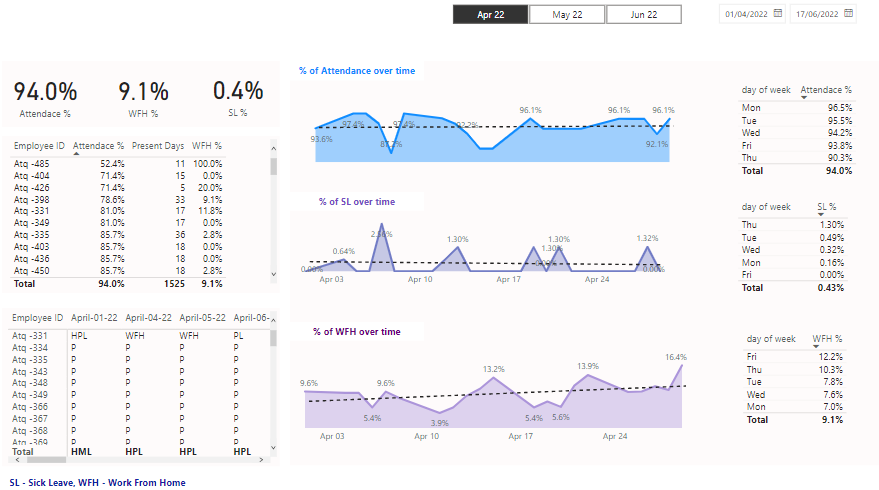

The dashboard page shown, as its layout file describes it:
{"tool":"powerbi","page":{"name":"Presence Insights","canvas":[1280,720],"ordinal":0},"visuals":[{"type":"textbox","box":[7.8,205.6,399.9,225.5],"z":0},{"type":"textbox","box":[7.8,453.3,399.8,227.6],"z":1000},{"type":"textbox","box":[422.3,97.9,848.1,582.3],"z":2000},{"type":"textbox","box":[7.8,98,399.9,95.4],"z":3000},{"type":"tableEx","fields":{"Values":["Final Data.Employee ID","Measures (2).Attendace %","Measures (2).Present Days","Measures (2).WFH %"]},"box":[12.6,205.2,394.9,225.7],"z":4000},{"type":"slicer","fields":{"Values":["Final Data.Date"]},"box":[1027.3,5.2,252.7,46.3],"z":5000},{"type":"slicer","fields":{"Values":["Final Data.MMM YY"]},"box":[630.4,10.5,379.5,35.8],"z":6000},{"type":"areaChart","fields":{"Category":["Final Data.MMM YY","Final Data.Date"],"Y":["Measures (2).WFH %"]},"box":[420.7,502.3,589,153.5],"z":7000},{"type":"areaChart","fields":{"Category":["Final Data.WeekNo","Final Data.Date"],"Y":["Measures (2).Attendace %"]},"box":[444.1,144.9,540.4,103.2],"z":8000},{"type":"card","fields":{"Values":["Measures (2).Attendace %"]},"box":[7.8,98,124,96.3],"z":9000},{"type":"card","fields":{"Values":["Measures (2).WFH %"]},"box":[141.4,98,138.8,96.3],"z":10000},{"type":"areaChart","fields":{"Category":["Final Data.MMM YY","Final Data.Date"],"Y":["Measures (2).SL %"]},"box":[422.5,307.1,556,124],"z":11000},{"type":"card","fields":{"Values":["Measures (2).SL %"]},"box":[286.3,97.2,121.4,96.3],"z":13000},{"type":"textbox","box":[422.4,98.2,192.5,27.5],"z":15000},{"type":"textbox","box":[422.5,286.3,192.6,26.9],"z":16000},{"type":"textbox","box":[422.1,473.7,192.6,27.2],"z":17000},{"type":"pivotTable","fields":{"Rows":["Final Data.Employee ID"],"Columns":["Final Data.Date"],"Values":["Min(Final Data.Value)"]},"box":[11.7,453.3,395.9,227.6],"z":18000},{"type":"textbox","box":[13.6,691.6,289.8,28.2],"z":19000},{"type":"tableEx","fields":{"Values":["Final Data.day of week","Measures (2).Attendace %"]},"box":[1060.9,125.8,209.9,145.7],"z":20000},{"type":"tableEx","fields":{"Values":["Final Data.day of week","Measures (2).SL %"]},"box":[1060.9,294.1,191.7,167.4],"z":21000},{"type":"tableEx","fields":{"Values":["Final Data.day of week","Measures (2).WFH %"]},"box":[1068.7,483.2,170,167.4],"z":22000}]}

Visuals, with their boxes on the page's 1280x720 design canvas (x1, y1, x2, y2). These are canvas units, not pixel positions in the 879x490 screenshot, which may show the page scaled, cropped or inside an application window:
textbox: [8, 206, 408, 431]
textbox: [8, 453, 408, 681]
textbox: [422, 98, 1270, 680]
textbox: [8, 98, 408, 193]
tableEx - Final Data.Employee ID x Measures (2).Attendace %: [13, 205, 408, 431]
slicer - Final Data.Date: [1027, 5, 1280, 52]
slicer - Final Data.MMM YY: [630, 10, 1010, 46]
areaChart - Final Data.MMM YY x Final Data.Date: [421, 502, 1010, 656]
areaChart - Final Data.WeekNo x Final Data.Date: [444, 145, 984, 248]
card - Measures (2).Attendace %: [8, 98, 132, 194]
card - Measures (2).WFH %: [141, 98, 280, 194]
areaChart - Final Data.MMM YY x Final Data.Date: [422, 307, 978, 431]
card - Measures (2).SL %: [286, 97, 408, 194]
textbox: [422, 98, 615, 126]
textbox: [422, 286, 615, 313]
textbox: [422, 474, 615, 501]
pivotTable - Final Data.Employee ID x Final Data.Date: [12, 453, 408, 681]
textbox: [14, 692, 303, 720]
tableEx - Final Data.day of week x Measures (2).Attendace %: [1061, 126, 1271, 272]
tableEx - Final Data.day of week x Measures (2).SL %: [1061, 294, 1253, 462]
tableEx - Final Data.day of week x Measures (2).WFH %: [1069, 483, 1239, 651]
